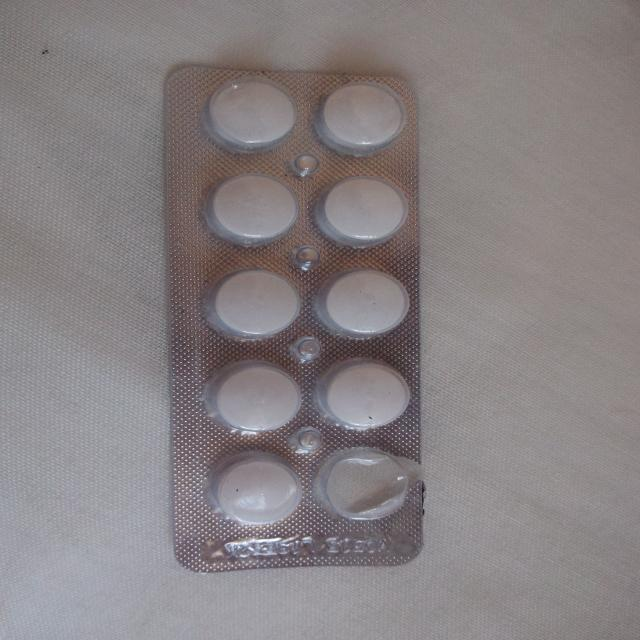Empty: (316, 442, 413, 528)
Pill: (200, 259, 305, 344), (202, 72, 304, 156), (209, 168, 307, 254), (318, 76, 412, 165), (201, 361, 307, 437), (205, 451, 303, 531), (319, 170, 413, 253), (319, 262, 410, 346), (323, 357, 410, 437)
